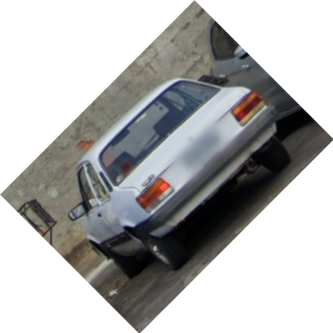car: (67, 76, 293, 272)
